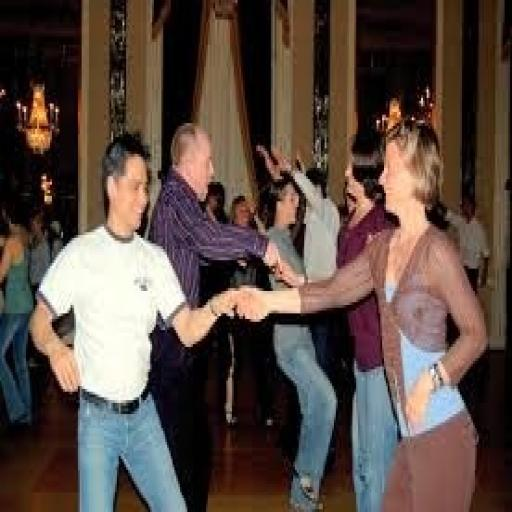dancing: (234, 112, 490, 509), (28, 129, 250, 509)
